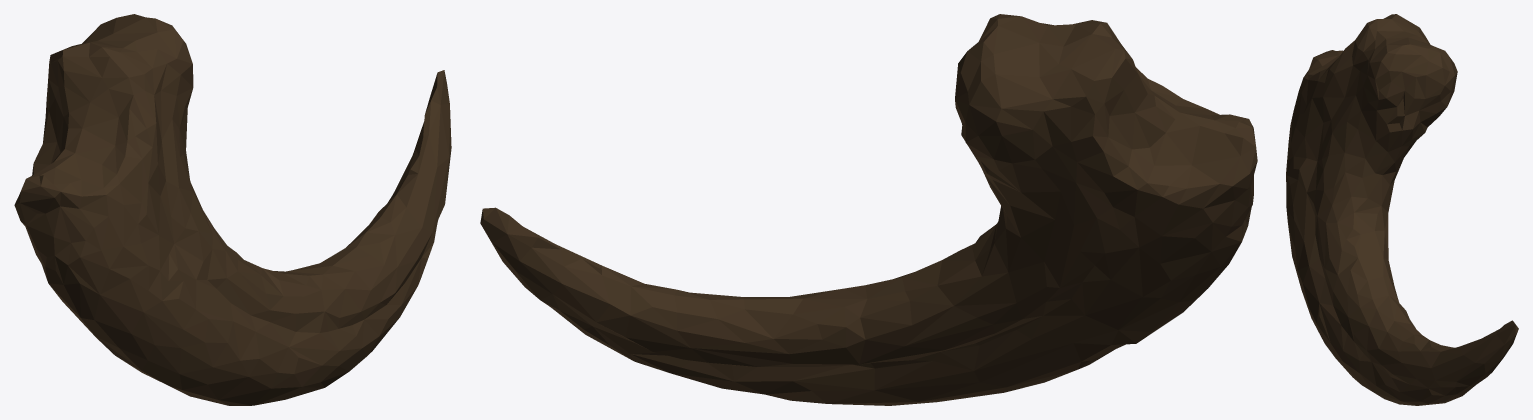
File: claw.obj
The picture shows the model from 3 angles, left to right: view 1: azimuth 30°, elevation 25°; view 2: azimuth 150°, elevation 25°; view 3: azimuth 270°, elevation 25°; orthographic projection. The views are drawn at different scales.
Visible parts, largest first — view 1: VelociraptorClawOBJ; view 2: VelociraptorClawOBJ; view 3: VelociraptorClawOBJ.
Boxes of the visible parts, x1,y1,x2,y2 form: VelociraptorClawOBJ: [14, 14, 451, 405]; VelociraptorClawOBJ: [480, 14, 1257, 405]; VelociraptorClawOBJ: [1286, 14, 1518, 405].
Bounding box in the file's own units: 1.15 × 0.7685 × 0.5679.
